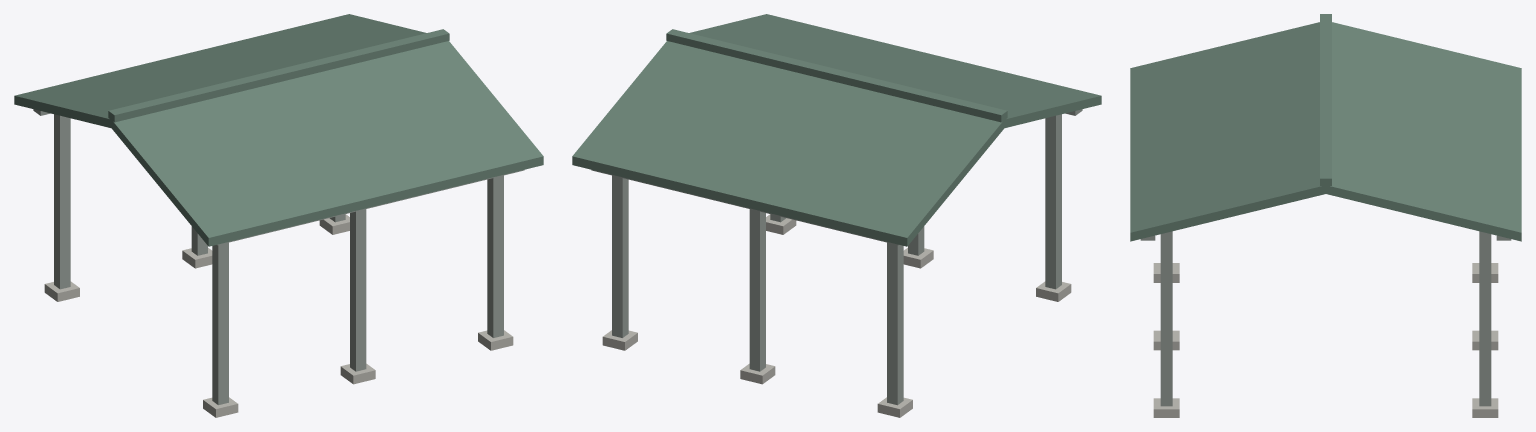
3 renders of one model, left to right at view 1: azimuth 30°, elevation 25°; view 2: azimuth 150°, elevation 25°; view 3: azimuth 270°, elevation 25°, orthographic.
Parts seen in each view (by area): view 1: osm533744352__roof, osm533744352__steel, osm533744352__base; view 2: osm533744352__roof, osm533744352__steel, osm533744352__base; view 3: osm533744352__roof, osm533744352__steel, osm533744352__base.
Boxes of the visible parts, box(x1,y1,x2,y2) form: osm533744352__roof: box(14, 14, 543, 246); osm533744352__steel: box(33, 109, 524, 405); osm533744352__base: box(44, 214, 513, 417); osm533744352__roof: box(572, 14, 1101, 246); osm533744352__steel: box(591, 109, 1082, 405); osm533744352__base: box(602, 214, 1071, 417); osm533744352__roof: box(1130, 14, 1521, 241); osm533744352__steel: box(1140, 231, 1511, 406); osm533744352__base: box(1153, 263, 1498, 417).
Size of the model in its own units: 4.81 by 3.39 by 4.84.
